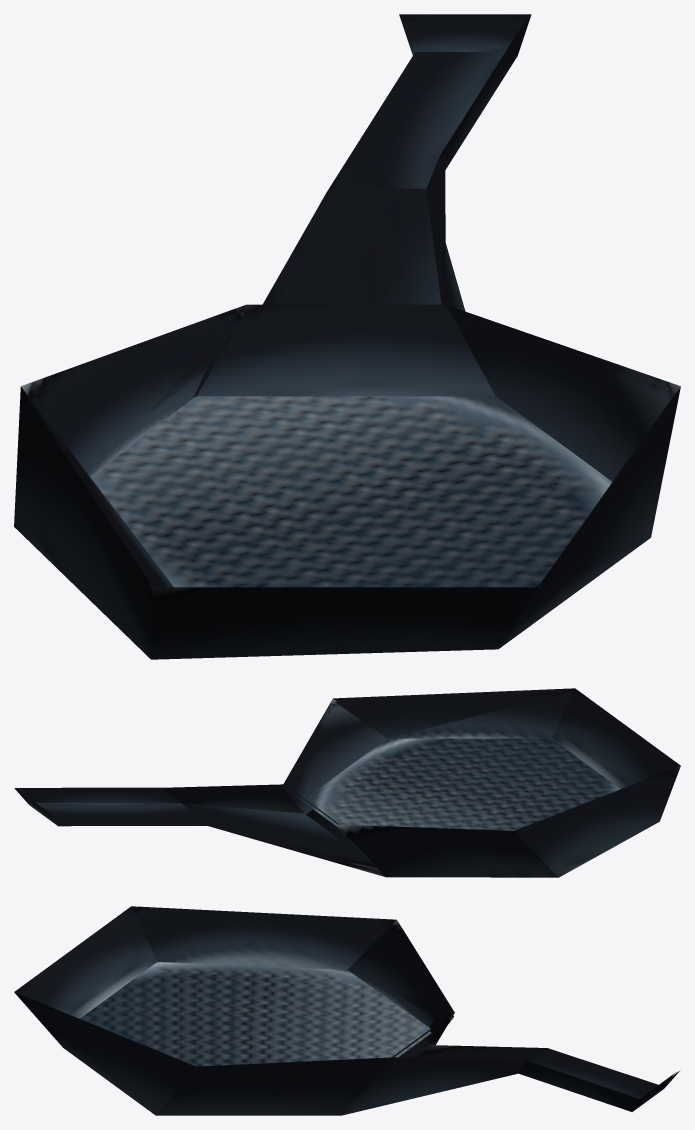
Rendered from Pan.fbx.
3 views of the same model, one above another, from view 1: azimuth 30°, elevation 25°; view 2: azimuth 150°, elevation 25°; view 3: azimuth 270°, elevation 25° (orthographic). The views are drawn at different scales.
Parts seen in each view (by area): view 1: Pan; view 2: Pan; view 3: Pan.
Boxes of the visible parts, box(x1,y1,x2,y2) form: Pan: box(14, 14, 680, 659); Pan: box(14, 688, 680, 877); Pan: box(14, 906, 680, 1115).
Size of the model in its own units: 127 by 24.93 by 152.
